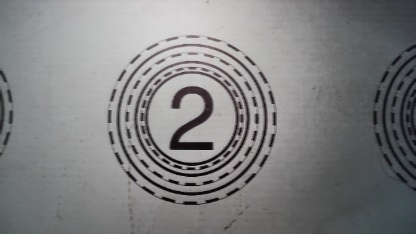2r: (108, 36, 275, 205)
